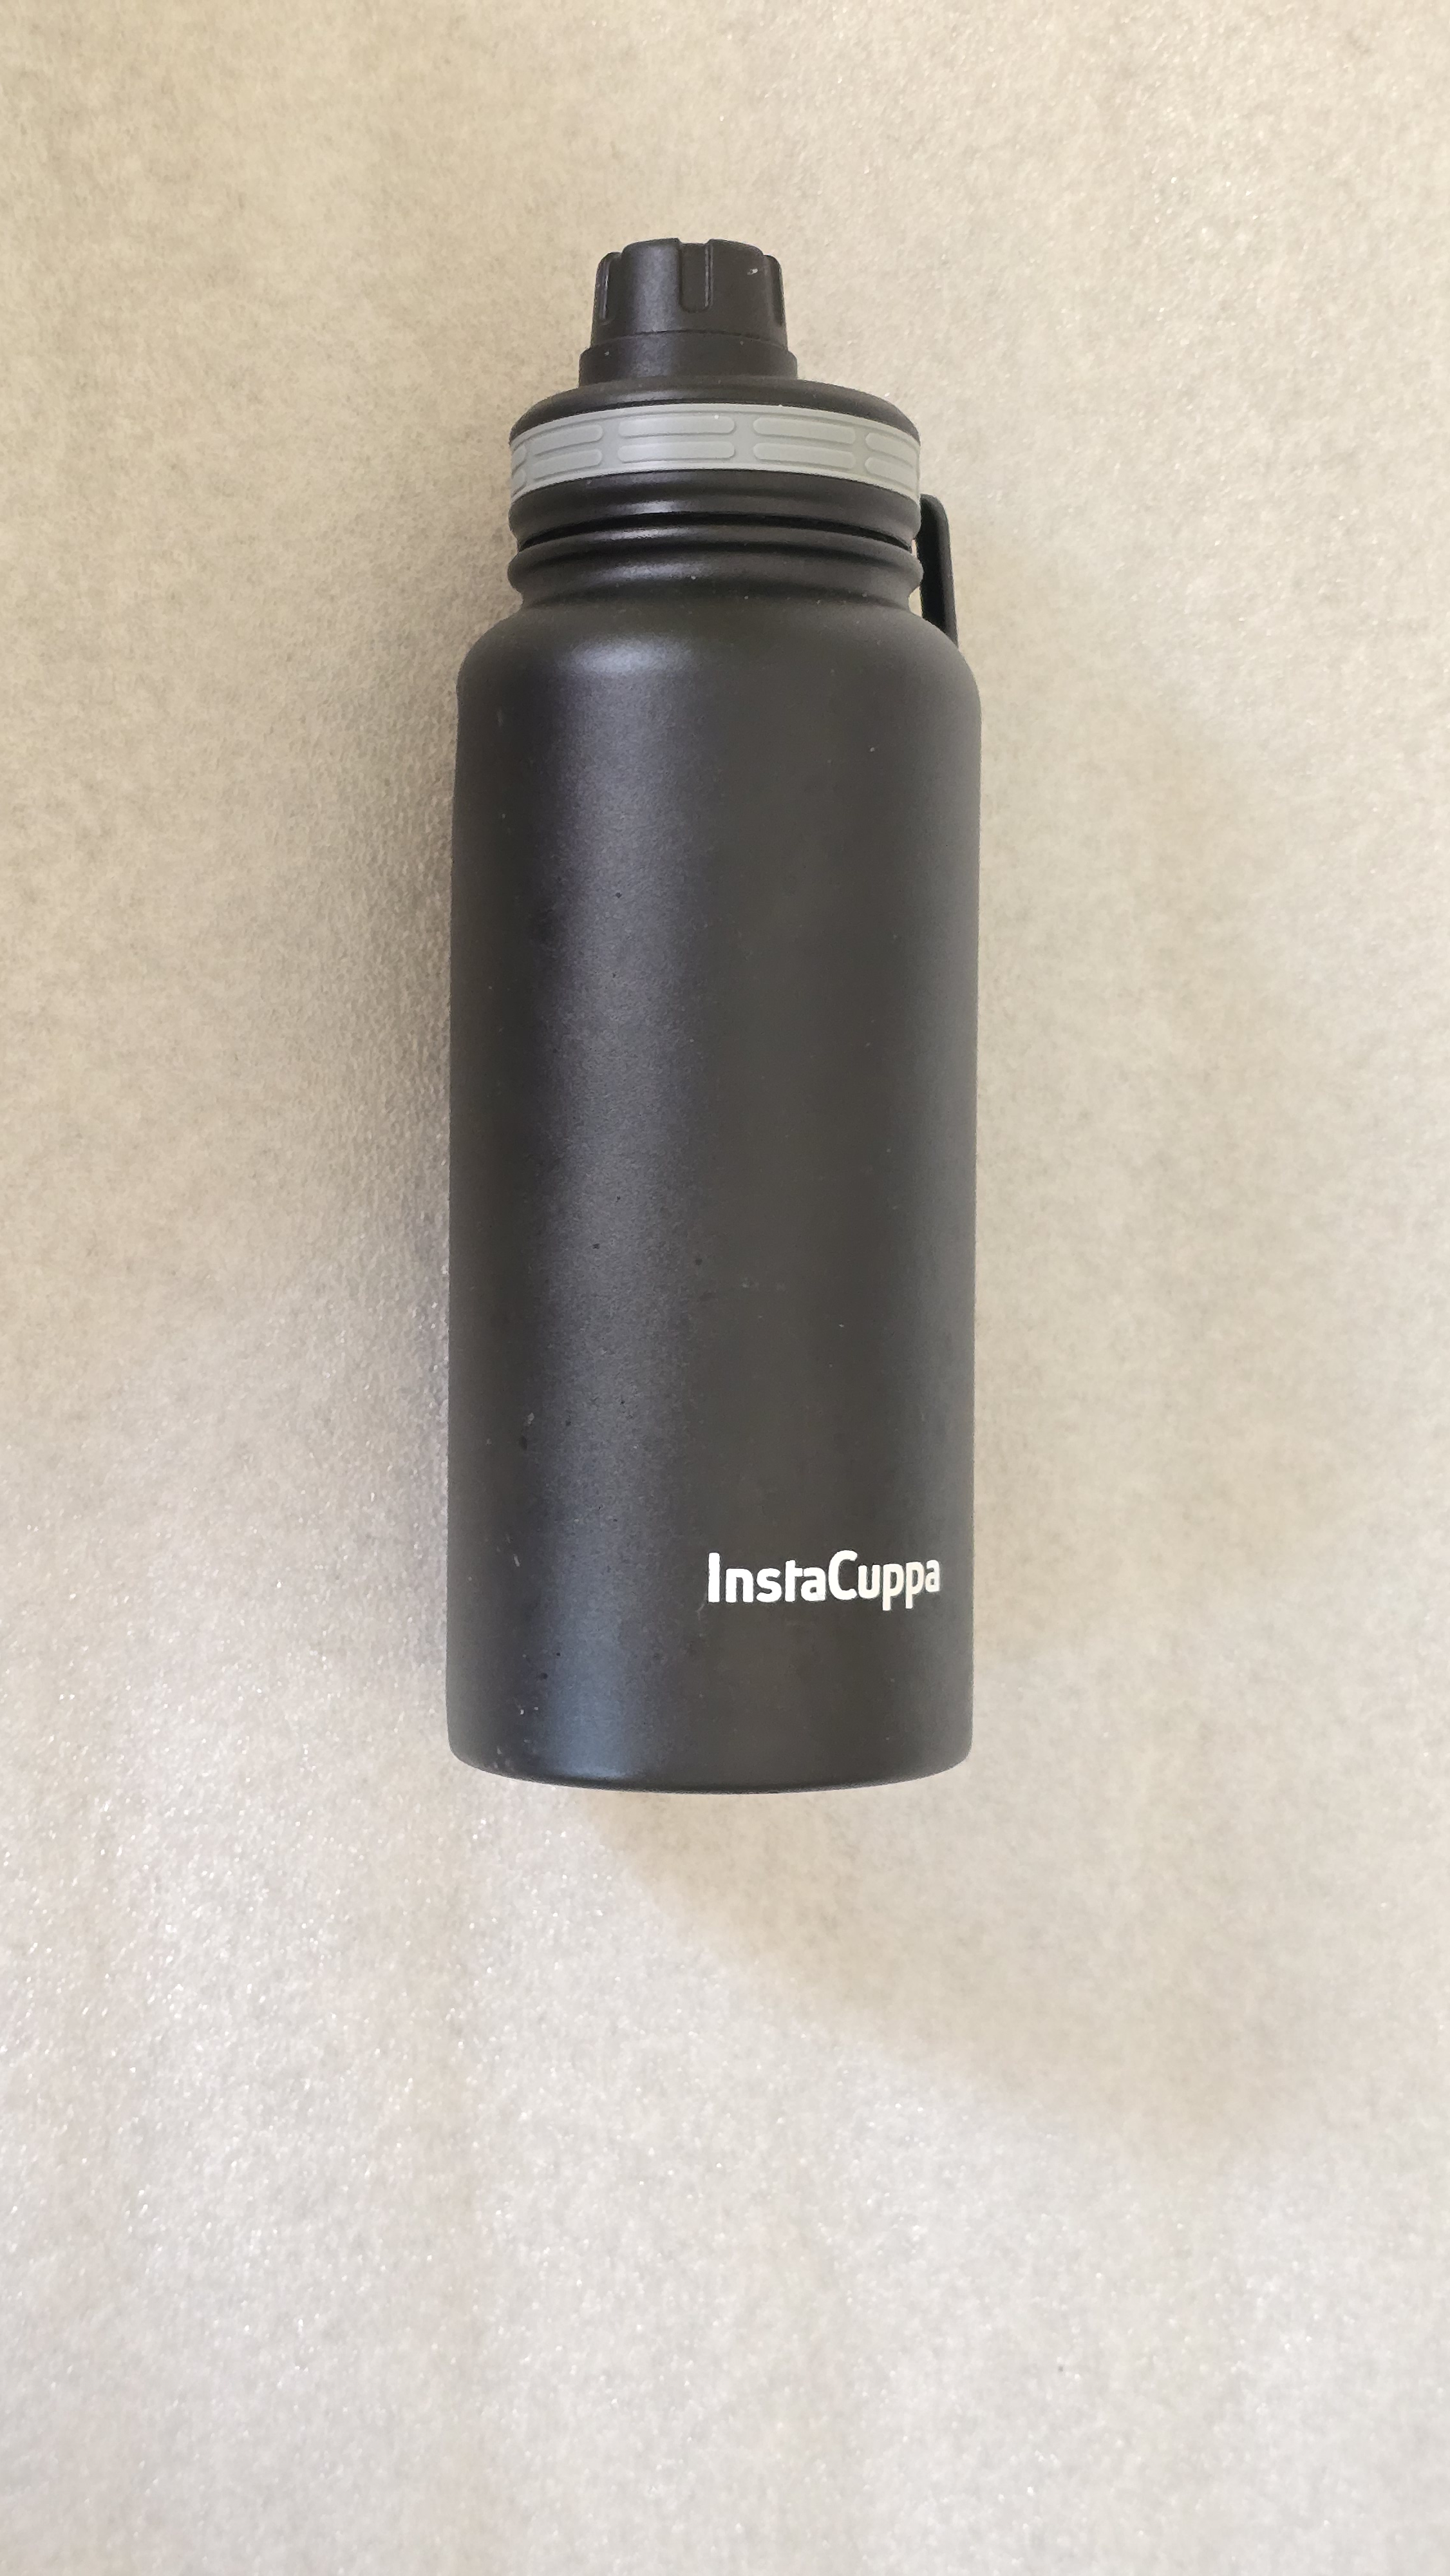bottle: (387, 150, 1070, 1916)
